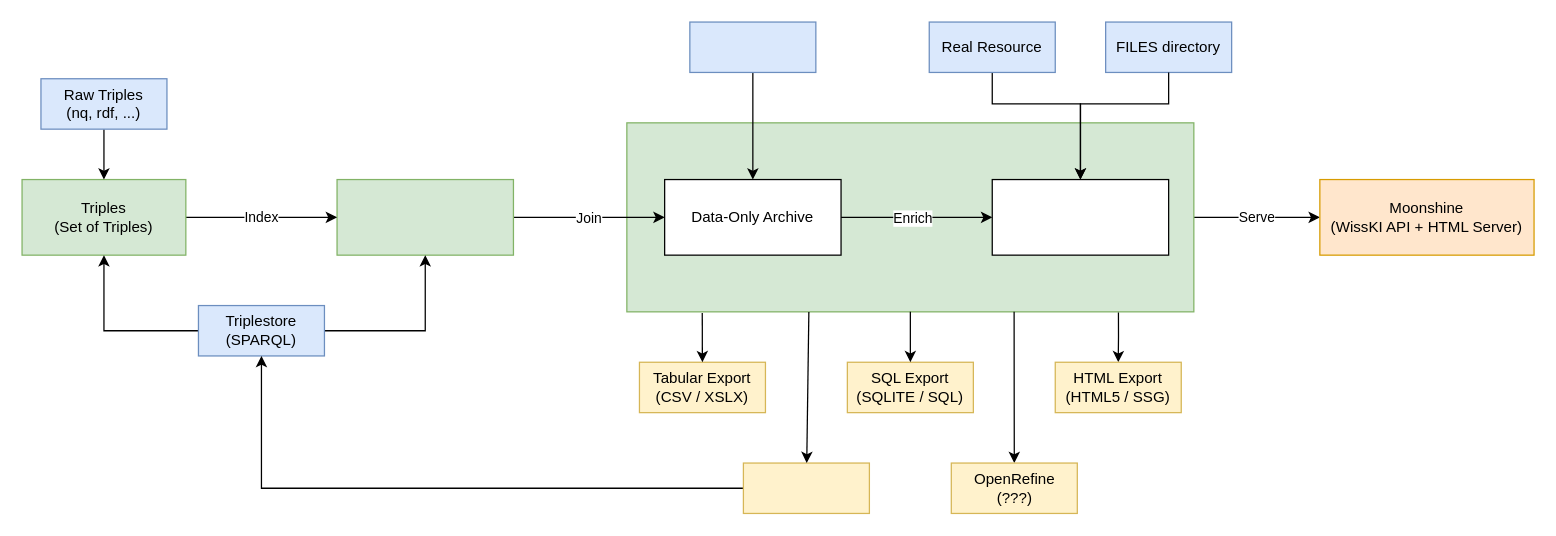
Image size: 1556x536. Some labels were removed from this diagram. The box of each missing label's shape, as (x1, y1, x2, y2) in pixels:
Clean Triples (RDF): (742, 462, 869, 513)
Columns (Sets of Values): (336, 178, 513, 255)
Data and Media Archive: (991, 178, 1169, 255)
WissKI API: (689, 21, 816, 72)
WissKI Entity Archive (JSON-LD + Manifest): (626, 122, 1194, 312)
